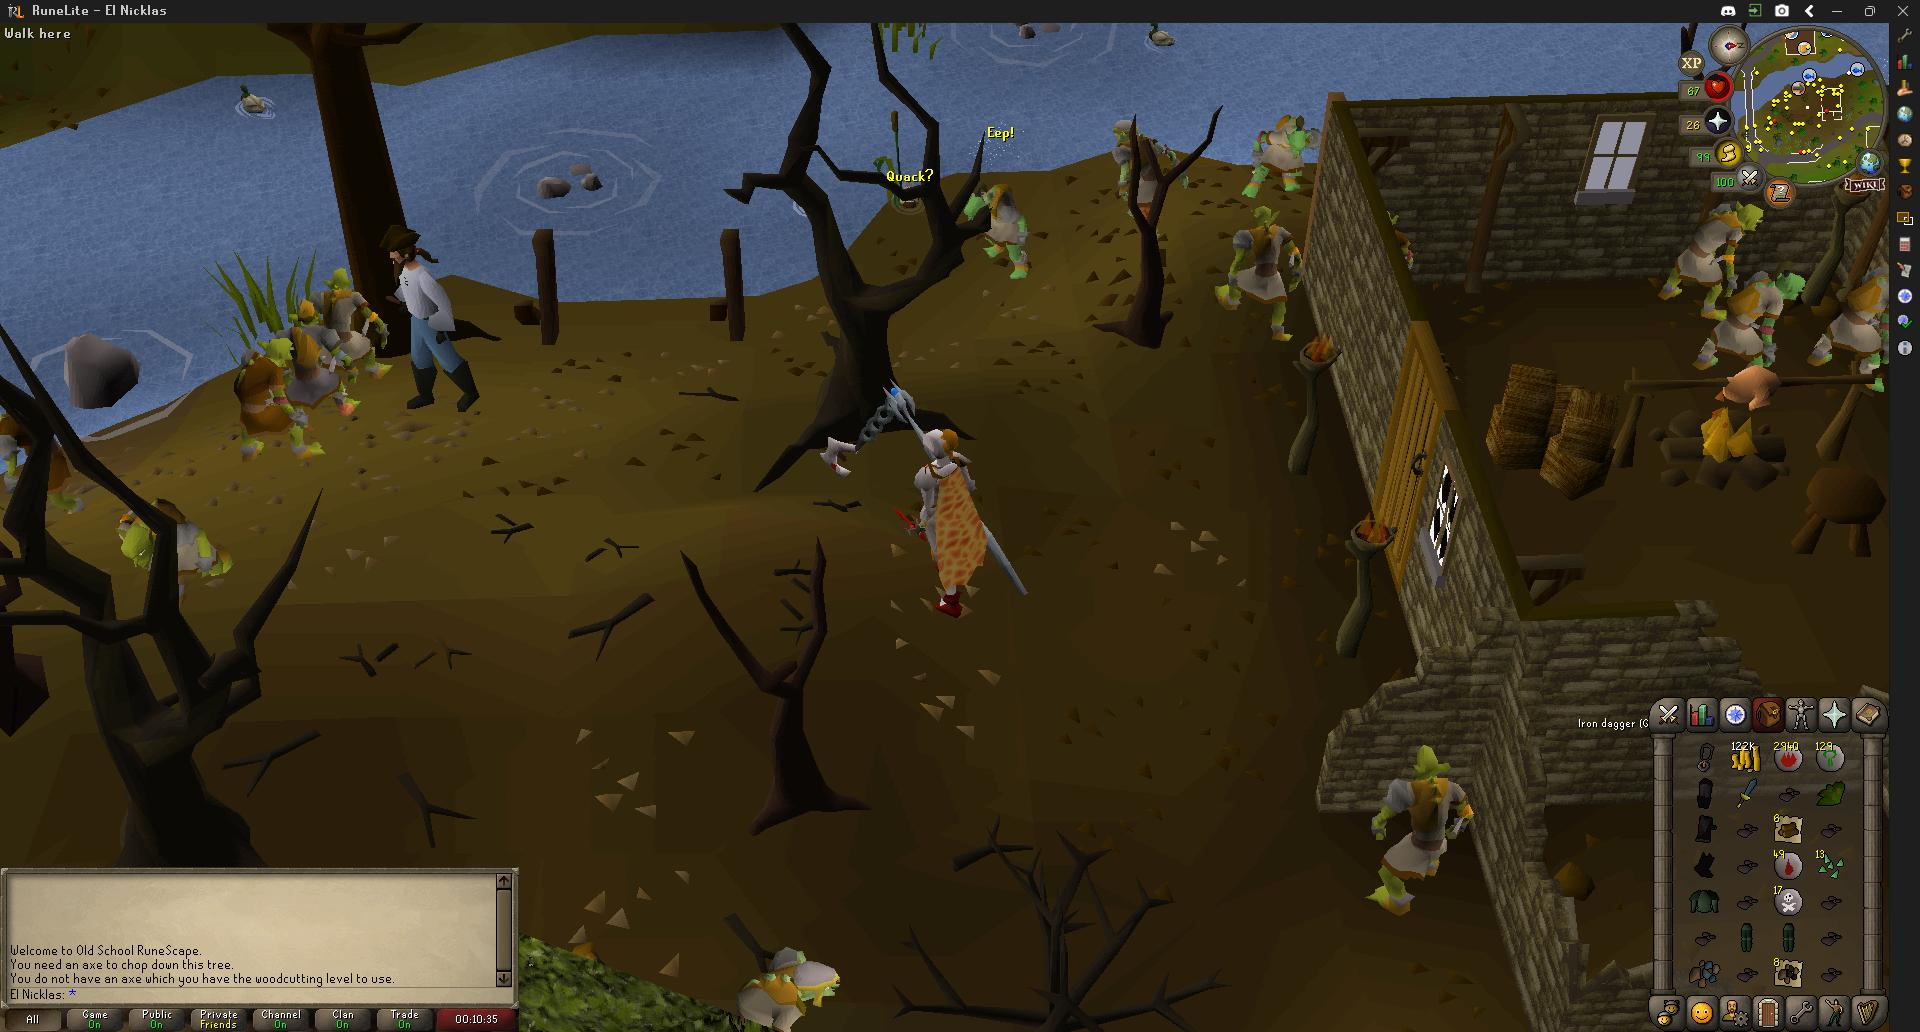goblin: (905, 422, 1024, 611), (1365, 740, 1477, 915), (1651, 200, 1757, 324), (231, 329, 334, 455), (1806, 267, 1890, 386), (123, 502, 233, 594), (1216, 205, 1288, 336), (315, 268, 393, 386), (736, 944, 836, 1028), (1, 412, 78, 519), (1107, 119, 1189, 205), (962, 183, 1027, 282), (1244, 116, 1304, 198), (1386, 214, 1417, 278)
